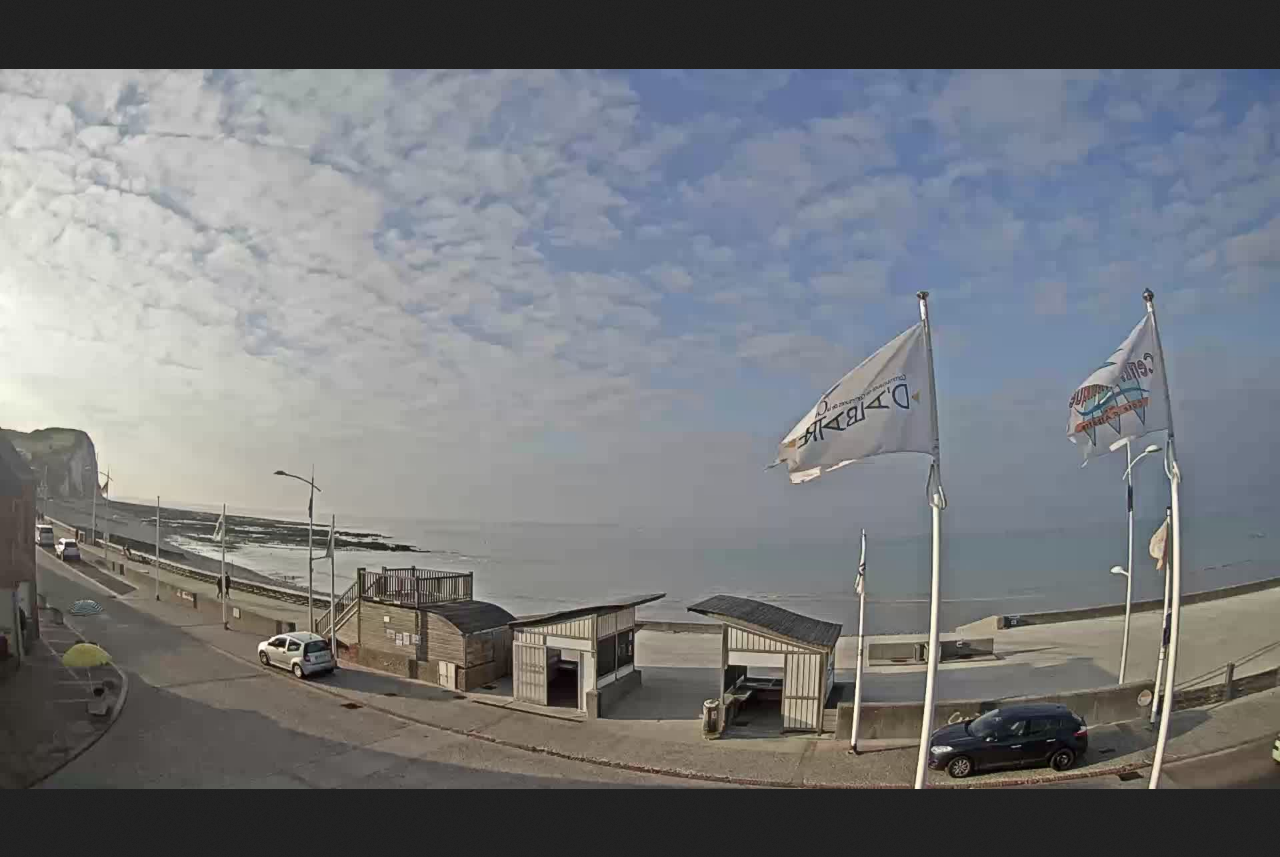maybe: (207, 508, 226, 545)
no: (850, 533, 870, 598)
yes: (766, 320, 940, 484), (1062, 304, 1190, 472)
